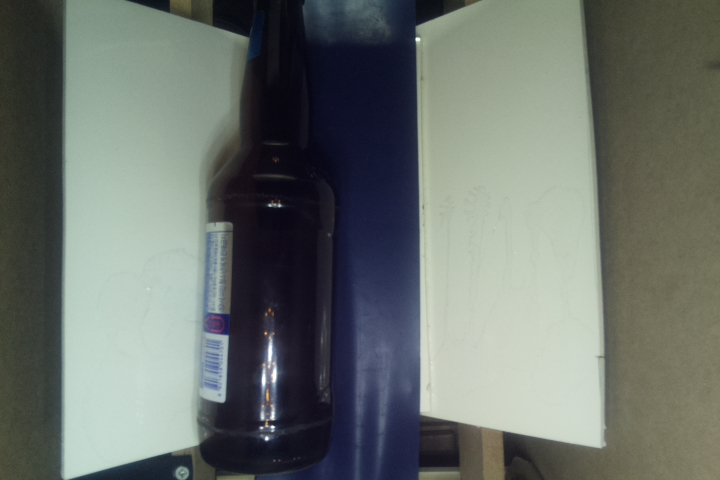makju: (193, 1, 337, 474)
